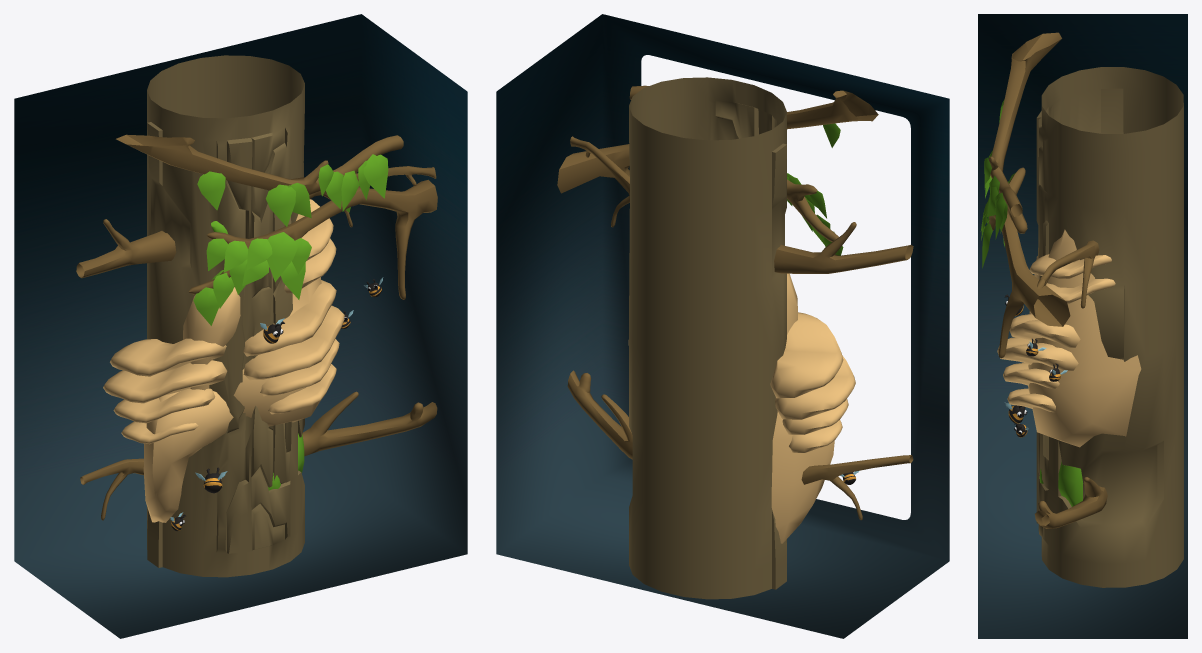
The model's file is 10_Beehive.gltf.
3 renders of one model, left to right at view 1: azimuth 30°, elevation 25°; view 2: azimuth 150°, elevation 25°; view 3: azimuth 270°, elevation 25°, orthographic.
Visible parts, largest first — view 1: 10_Beehive_bg, 10_Beehive; view 2: 10_Beehive_bg, 10_Beehive; view 3: 10_Beehive, 10_Beehive_bg.
Part boxes in pixels (box(x1,y1,x2,y2)): 10_Beehive_bg: box(14, 14, 467, 638); 10_Beehive: box(76, 55, 437, 577); 10_Beehive_bg: box(496, 14, 949, 638); 10_Beehive: box(557, 77, 913, 599); 10_Beehive: box(980, 32, 1183, 587); 10_Beehive_bg: box(978, 14, 1187, 638).
Bounding box in the file's own units: 2.76 × 3.51 × 1.46.
Materials: 2 (2 with a texture image).
